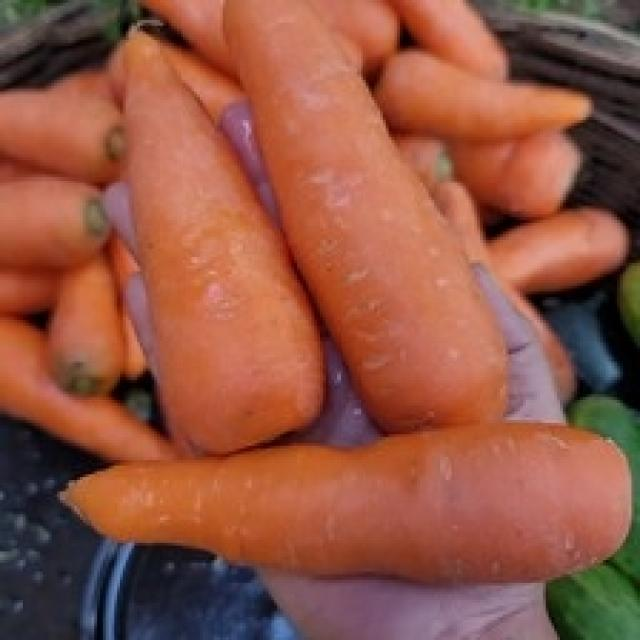carrot: (0, 0, 626, 577), (60, 420, 626, 577), (49, 177, 166, 437)
